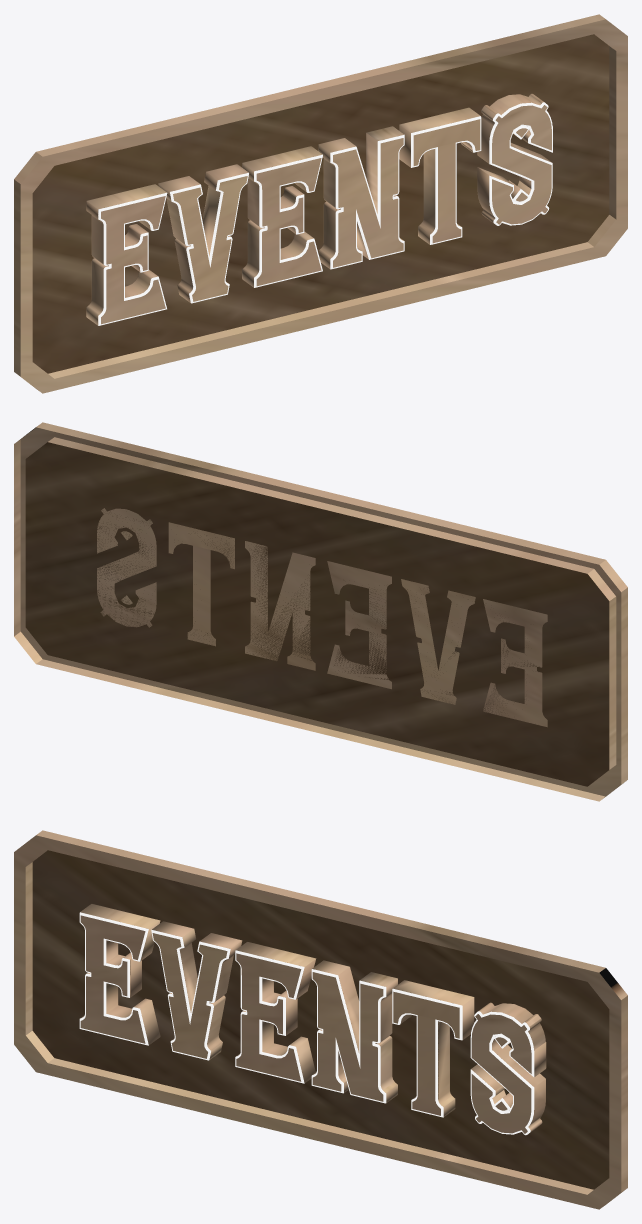
The model's file is EventsBoard.glb.
3 views of the same model, one above another, from view 1: azimuth 30°, elevation 25°; view 2: azimuth 150°, elevation 25°; view 3: azimuth 330°, elevation 25° (orthographic).
Parts seen in each view (by area): view 1: Plane, Text.250; view 2: Plane; view 3: Plane, Text.250.
Boxes of the visible parts, x1=… form: Plane: x1=14, y1=14, x2=627, y2=393; Text.250: x1=98, y1=102, x2=552, y2=325; Plane: x1=14, y1=422, x2=627, y2=801; Plane: x1=14, y1=830, x2=627, y2=1209; Text.250: x1=79, y1=912, x2=534, y2=1135.
Size of the model in its own units: 3.05 by 1.14 by 0.1181.
Materials: 2 (1 with a texture image).
